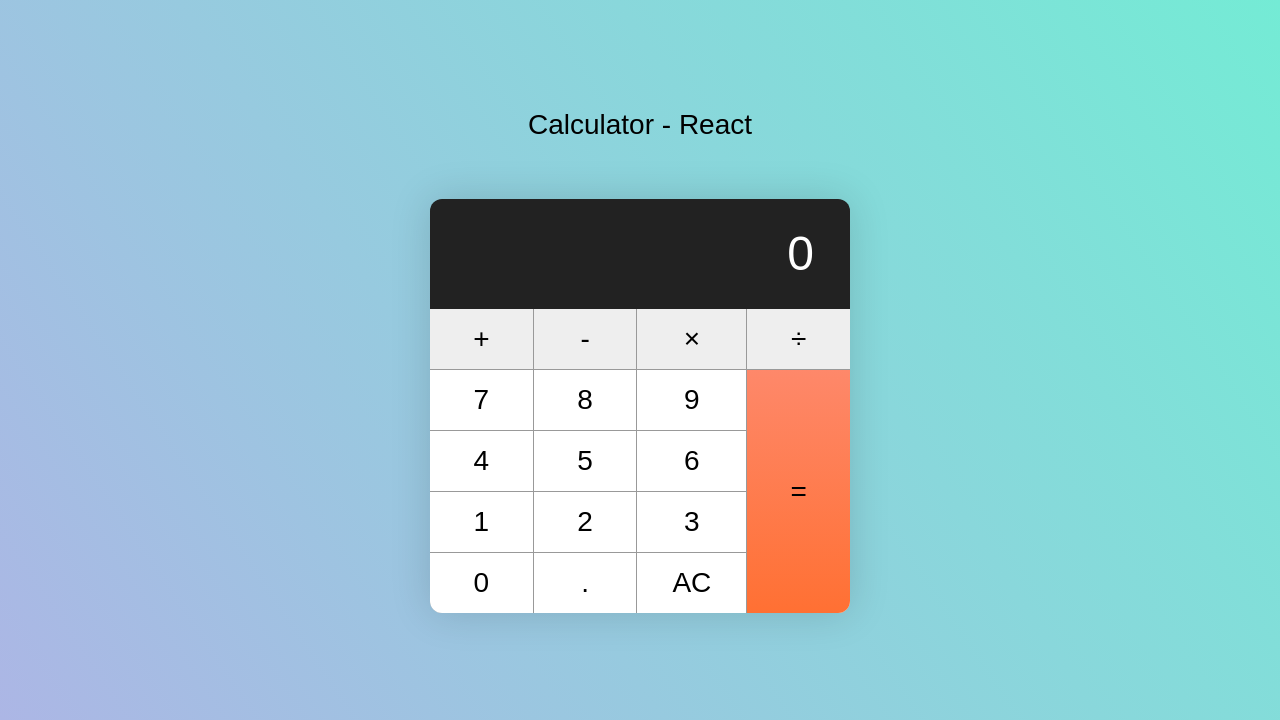
<CalculatorApp/> component test › should reset the display value
Click the button named "seven": click(481, 400) [430,370,533,430]
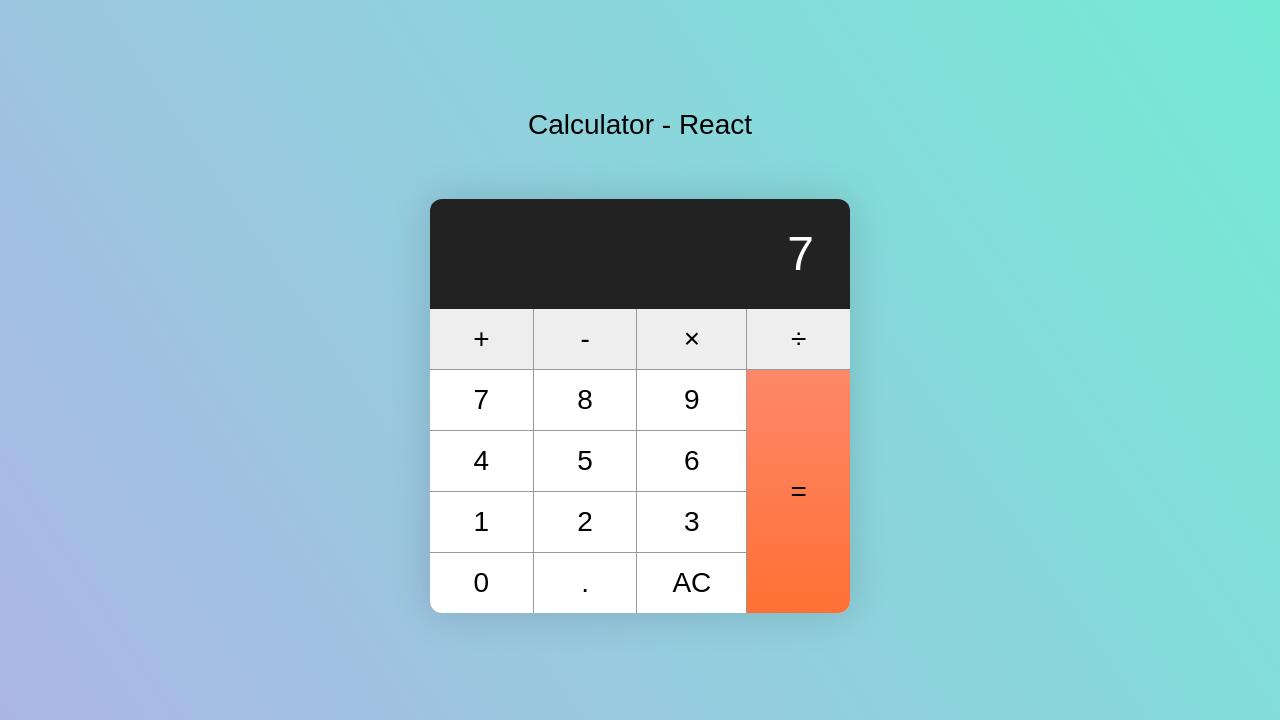
Now the text named "display-number" reads "7", box [787,227,814,280]
Click the button with aria-label "reset": click(692, 583) [637,553,746,613]
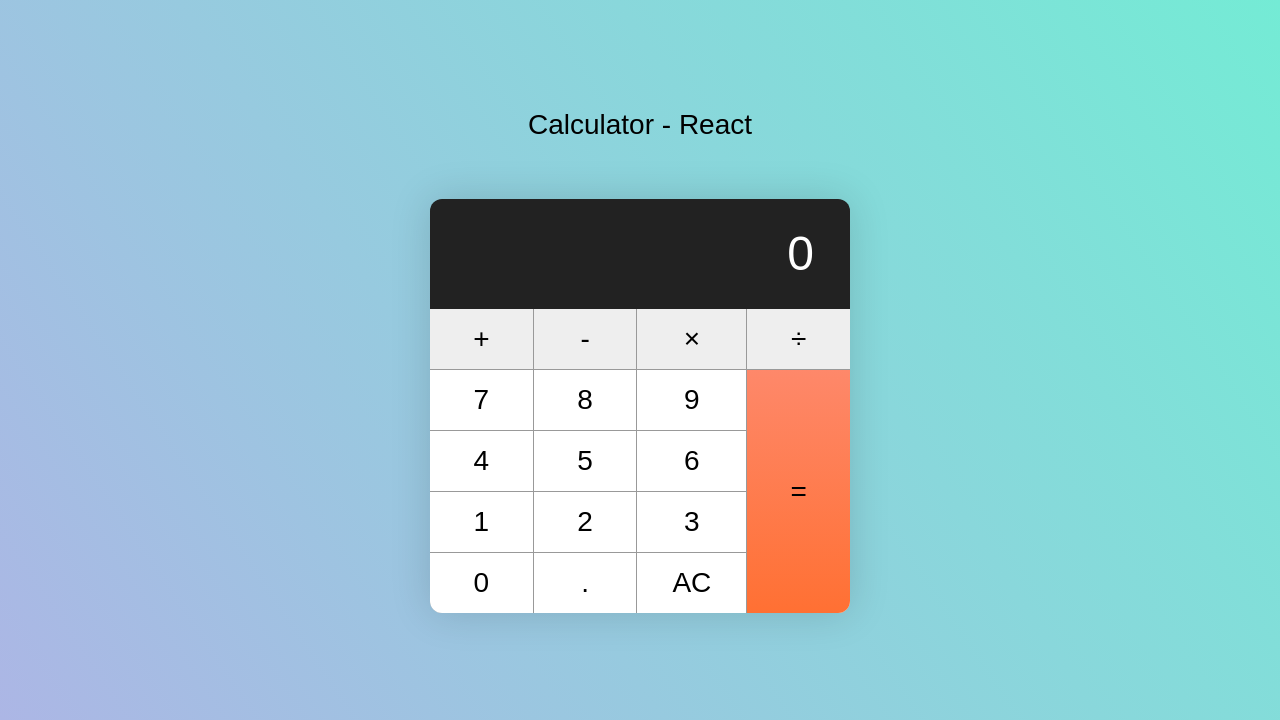
Now the text named "display-number" reads "0", box [787,227,814,280]
